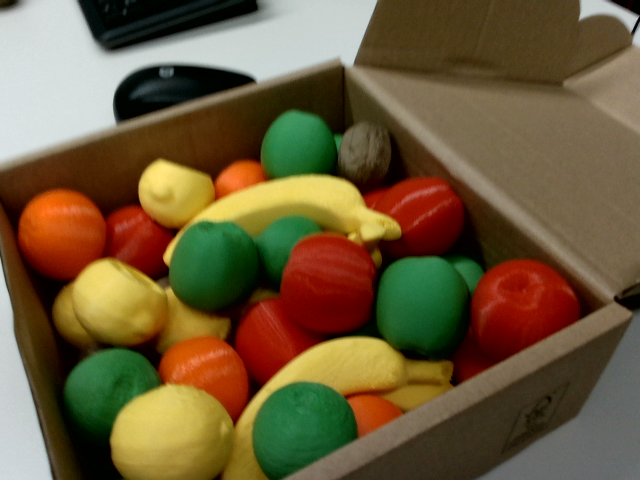banana: (156, 164, 402, 264), (377, 367, 455, 418), (0, 1, 1, 1)
green apple: (232, 363, 364, 480), (43, 327, 166, 452), (373, 253, 471, 359), (168, 220, 260, 311), (237, 198, 323, 290), (256, 106, 338, 179)
lemon: (55, 241, 181, 367), (110, 384, 233, 479), (124, 139, 223, 238), (156, 286, 230, 352), (41, 282, 97, 357)
orange: (0, 170, 123, 294), (150, 317, 268, 426), (339, 377, 403, 437), (205, 152, 267, 199)
red apple: (450, 240, 586, 365), (276, 228, 378, 338), (217, 283, 324, 387), (370, 174, 466, 262), (92, 196, 185, 282)
walnut: (331, 117, 397, 194)
